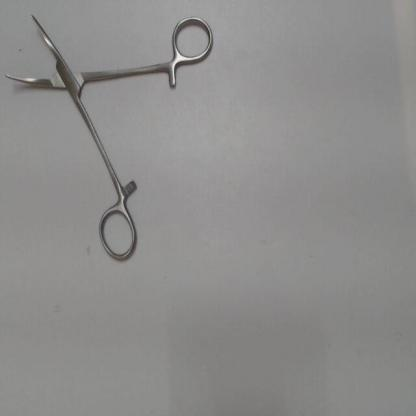Crile Artery Forceps: (2, 7, 218, 268)
